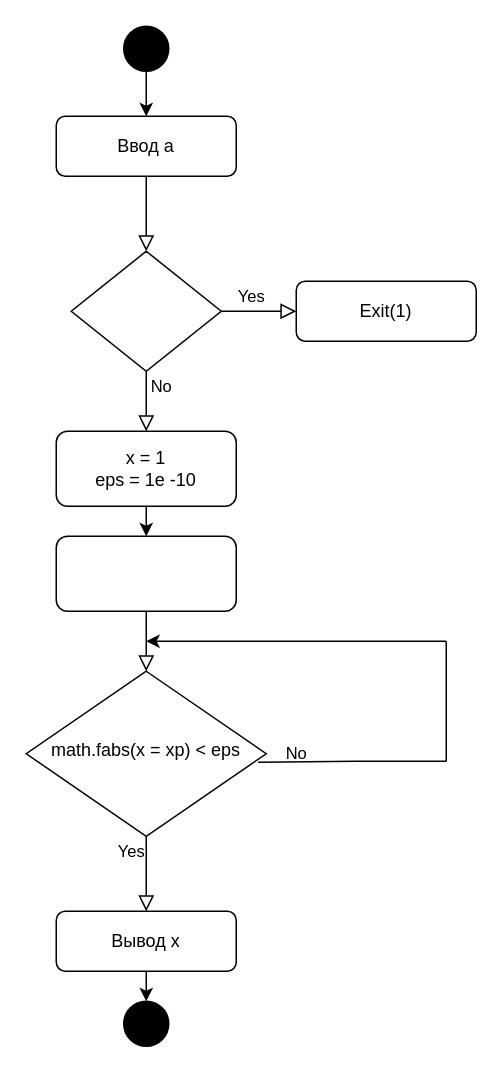
This 503x1073 diagram has some shape labels left out. The centre of each missing label's shape, as x and y in pixels:
"a < 0" belongs at [145,310].
"xp = x x = (x + a / x) / 2" belongs at [145,573].
